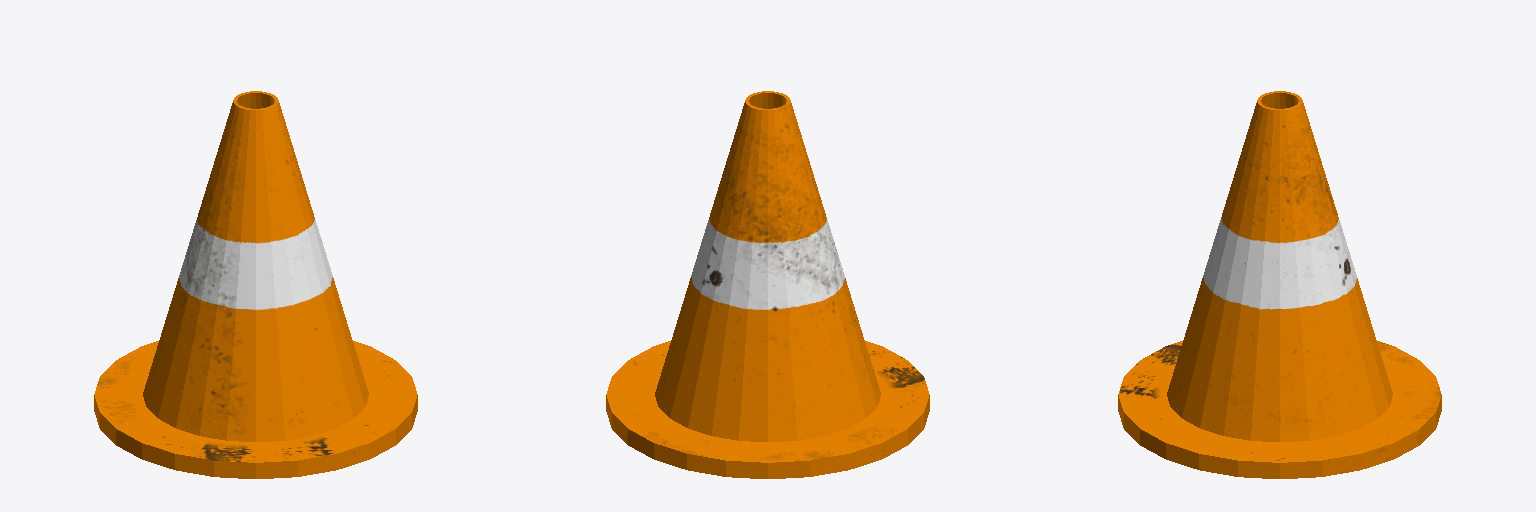
The picture shows the model from 3 angles: view 1: azimuth 30°, elevation 25°; view 2: azimuth 150°, elevation 25°; view 3: azimuth 270°, elevation 25°; orthographic projection.
Visible parts, largest first — view 1: Cone01; view 2: Cone01; view 3: Cone01.
Part boxes in pixels (left/top/right/bottom): Cone01: left=94, top=91, right=417, bottom=478; Cone01: left=606, top=91, right=929, bottom=478; Cone01: left=1118, top=91, right=1441, bottom=478.
Size of the model in its own units: 97.01 by 103 by 97.01.
Materials: 1 (1 with a texture image).